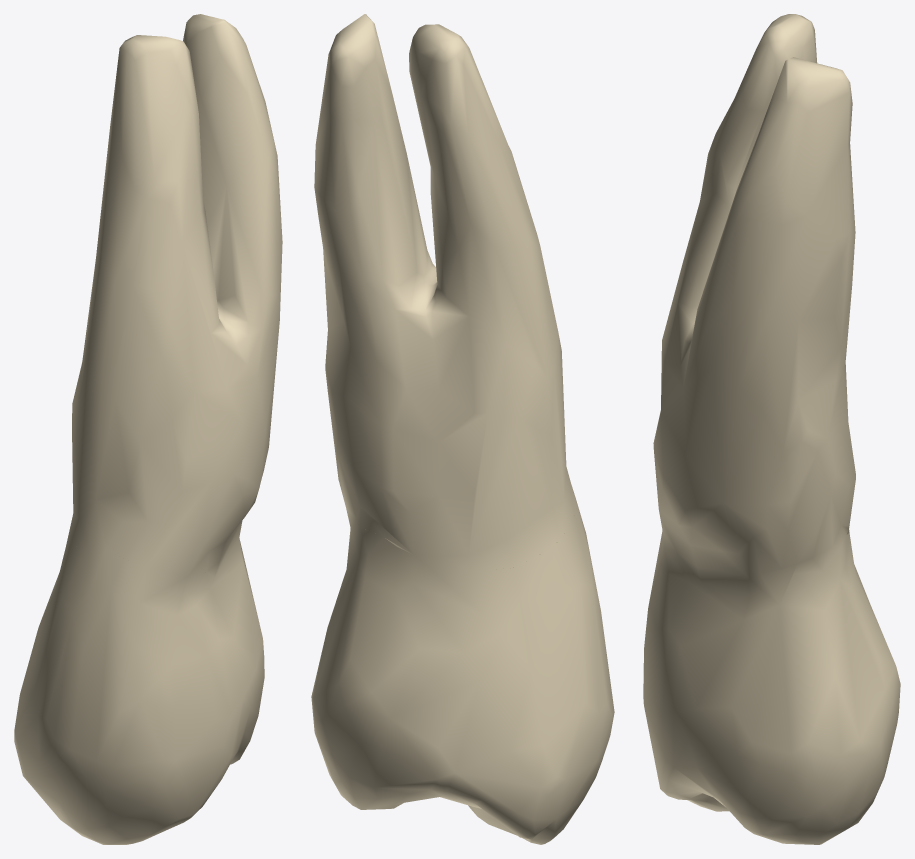
Rendered from esqueleto-upper-first-premolar-r.glb.
The picture shows the model from 3 angles, left to right: view 1: azimuth 30°, elevation 25°; view 2: azimuth 150°, elevation 25°; view 3: azimuth 270°, elevation 25°; orthographic projection. The views are drawn at different scales.
Visible parts, largest first — view 1: Upper first premolar.r; view 2: Upper first premolar.r; view 3: Upper first premolar.r.
Boxes of the visible parts, <box> form: Upper first premolar.r: <box>14,14,282,844</box>; Upper first premolar.r: <box>311,14,614,844</box>; Upper first premolar.r: <box>643,14,900,844</box>.
Size of the model in its own units: 0.00931 by 0.0277 by 0.00786.
